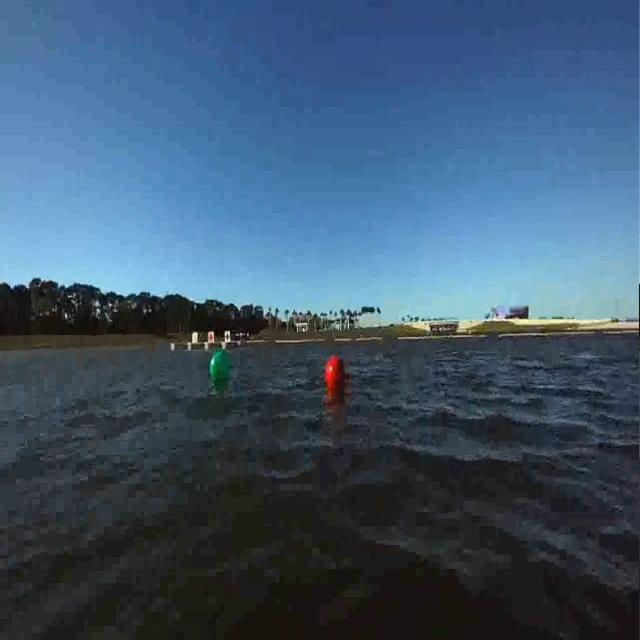green-buoy: (209, 350, 232, 383)
red-buoy: (327, 357, 349, 392)
